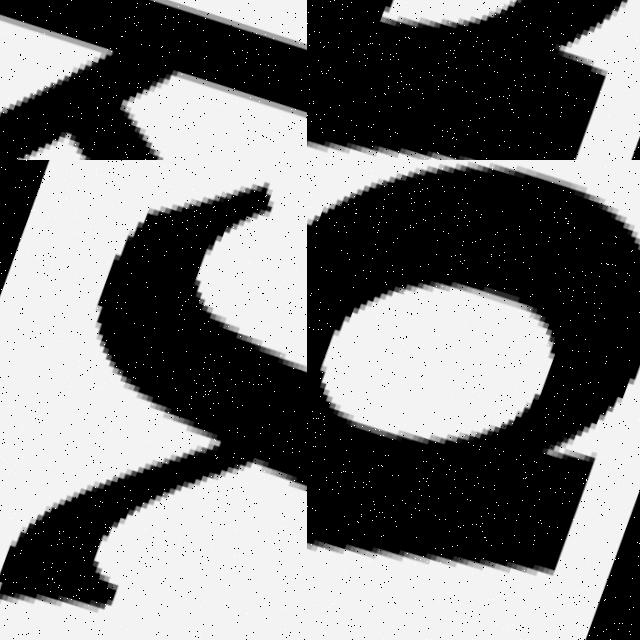A: (307, 0, 640, 160)
D: (307, 160, 640, 640)
K: (0, 0, 307, 160)
X: (0, 160, 307, 640)
